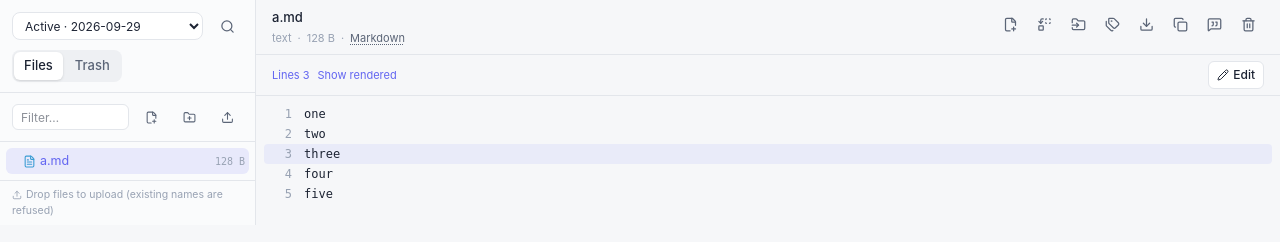
Scenario: WorkspacePage reading › locates a #L fragment in the line view and highlights the real line
Expected: the element with id "ws-line-3" is shown, left=264, top=144, right=1272, bottom=164
Expected: the element with id "ws-line-3" shows "three", left=304, top=147, right=340, bottom=161
// The rendered view stays one click away.
Click the button "Show rendered".
click(357, 75)  # box left=318, top=67, right=397, bottom=83
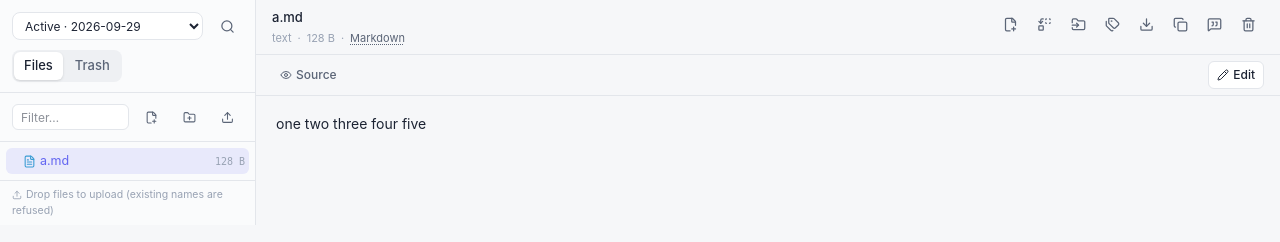
Expected: the text "three" is shown, left=276, top=115, right=426, bottom=132
Result: the element with id "ws-line-3" is gone
